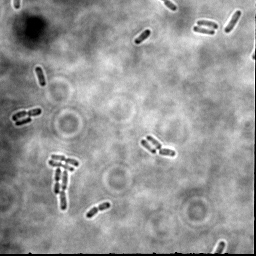Dividing: (84, 200, 112, 220), (11, 107, 43, 123)
Microcolony: (47, 152, 80, 211)
Rod: (223, 9, 242, 34), (133, 28, 152, 45), (33, 65, 47, 88), (139, 138, 157, 154), (196, 18, 219, 30), (193, 25, 216, 36), (146, 135, 163, 149), (158, 147, 177, 158), (14, 117, 34, 127)
